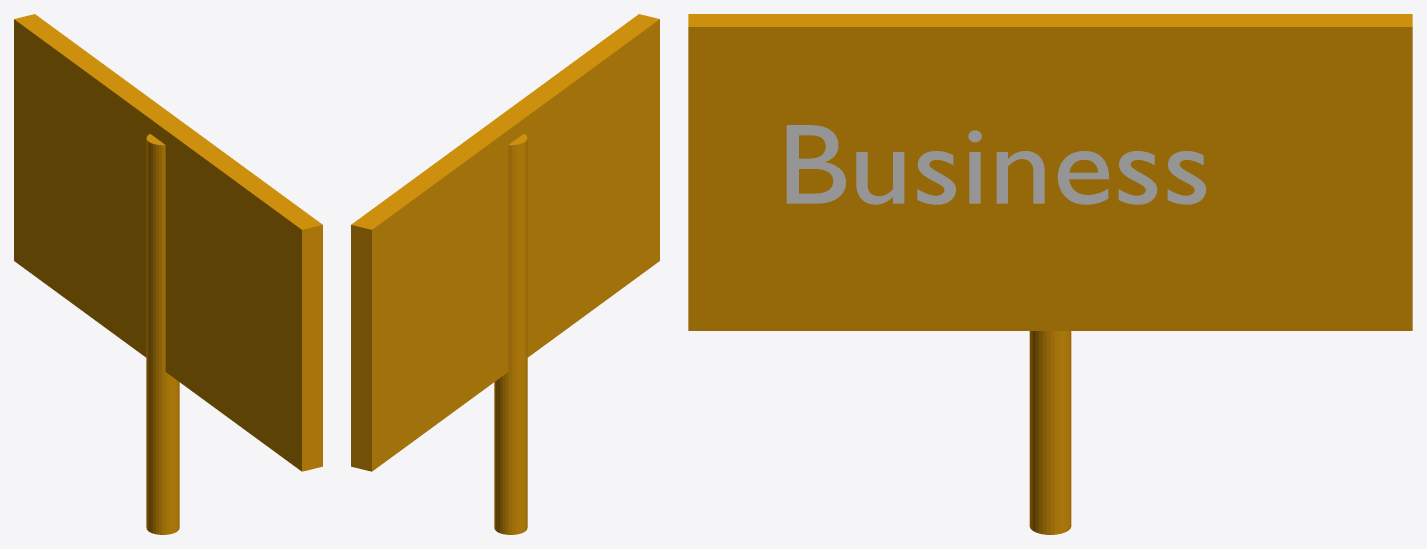
Rendered from Kyltti20.fbx.
3 views of the same model, side by side, from view 1: azimuth 30°, elevation 25°; view 2: azimuth 150°, elevation 25°; view 3: azimuth 270°, elevation 25° (orthographic). The views are drawn at different scales.
Parts seen in each view (by area): view 1: Kyltti20, Cylinder.019; view 2: Kyltti20, Cylinder.019; view 3: Kyltti20, Text.021, Cylinder.019.
Boxes of the visible parts, x1,y1,x2,y2 form: Kyltti20: (14,14,322,471); Cylinder.019: (146,134,179,534); Kyltti20: (351,14,659,471); Cylinder.019: (494,134,527,534); Kyltti20: (688,14,1412,330); Text.021: (786,125,1206,204); Cylinder.019: (1029,331,1071,534).
Bounding box in the file's own units: 36.68 × 442 × 570.
